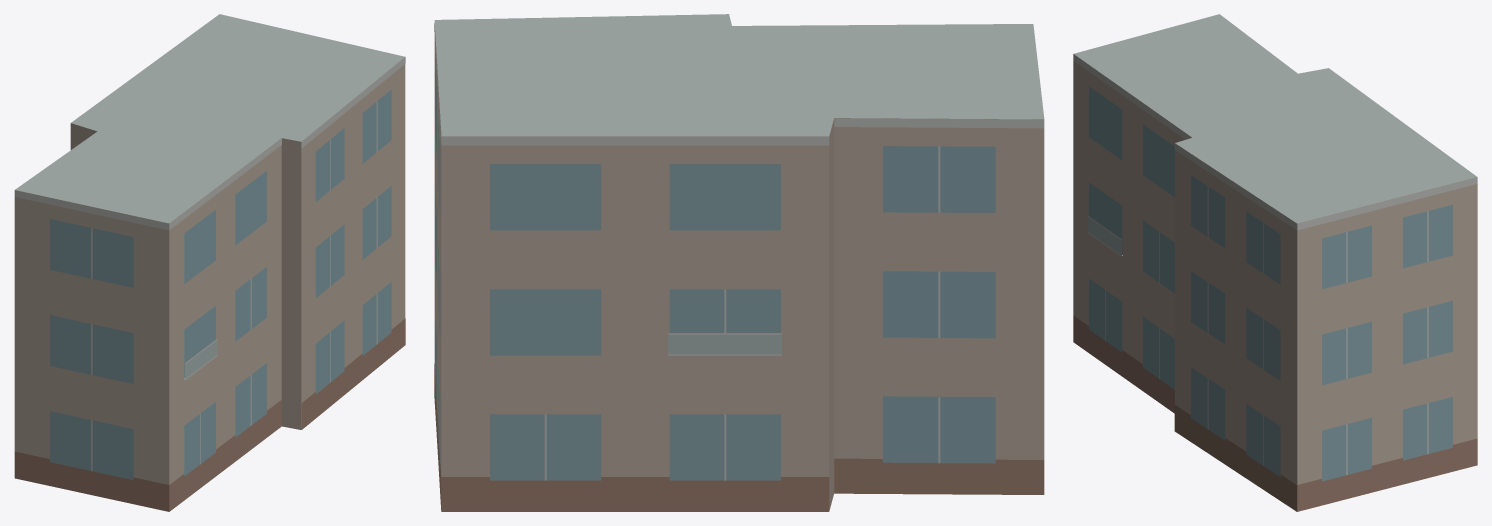
Rendered from survey-upis-32889055.glb.
3 views of the same model, side by side, from view 1: azimuth 30°, elevation 25°; view 2: azimuth 150°, elevation 25°; view 3: azimuth 270°, elevation 25° (orthographic). The views are drawn at different scales.
Visible parts, largest first — view 1: survey-upis-32889055.tmp; view 2: survey-upis-32889055.tmp; view 3: survey-upis-32889055.tmp.
Boxes of the visible parts, x1,y1,x2,y2 form: survey-upis-32889055.tmp: [14, 14, 405, 511]; survey-upis-32889055.tmp: [434, 14, 1044, 511]; survey-upis-32889055.tmp: [1073, 14, 1477, 511].
Bounding box in the file's own units: 15.91 × 10.2 × 12.97.
